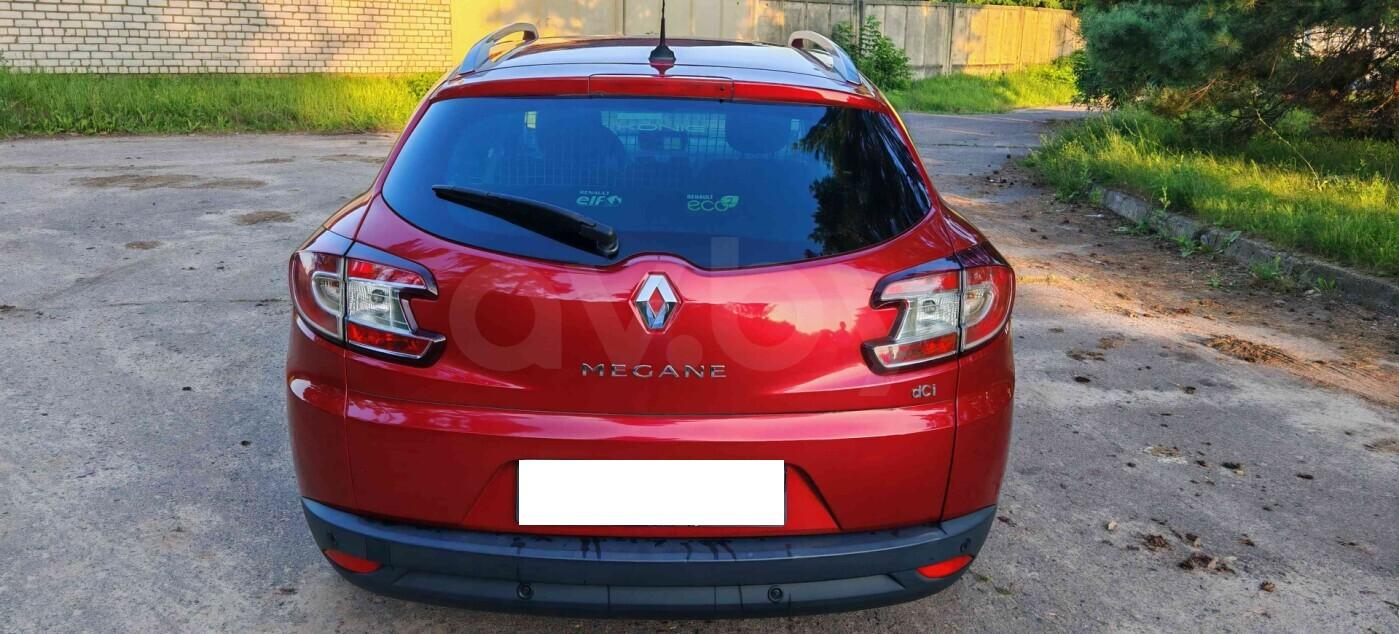Megane_2012-2014: (281, 30, 1018, 622)
